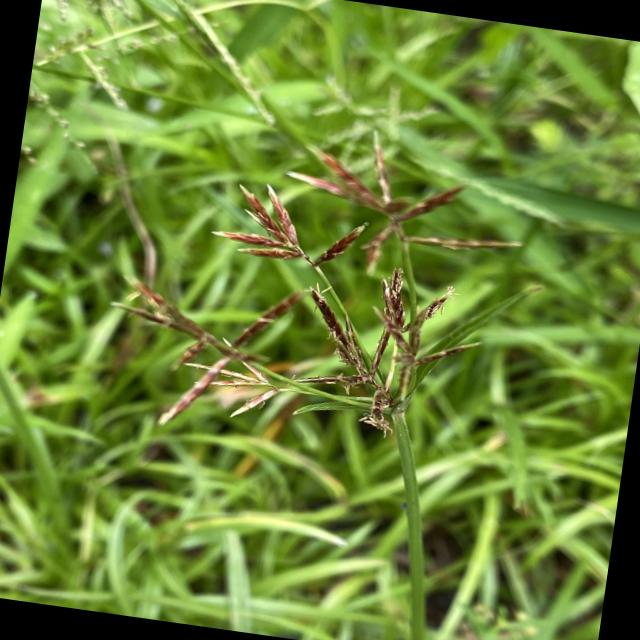cyperus: (78, 88, 546, 475)
